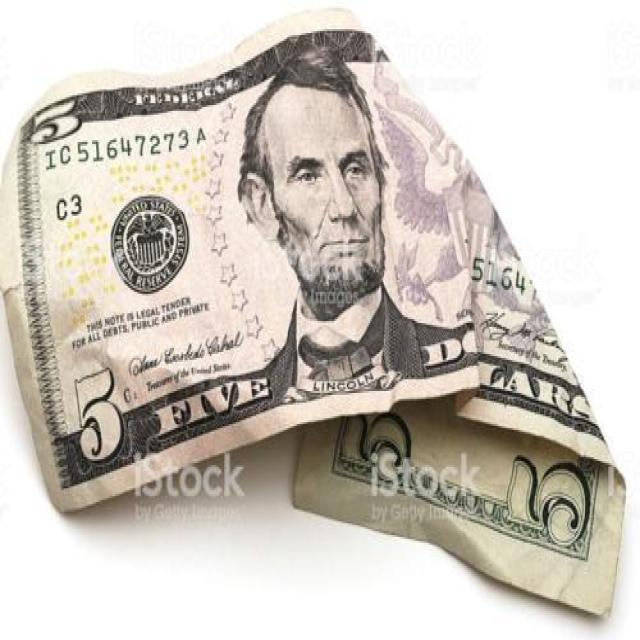5-Front: (1, 15, 632, 622)
